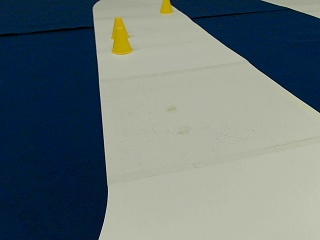cone: (110, 22, 132, 55), (112, 17, 127, 31), (159, 0, 172, 13)
